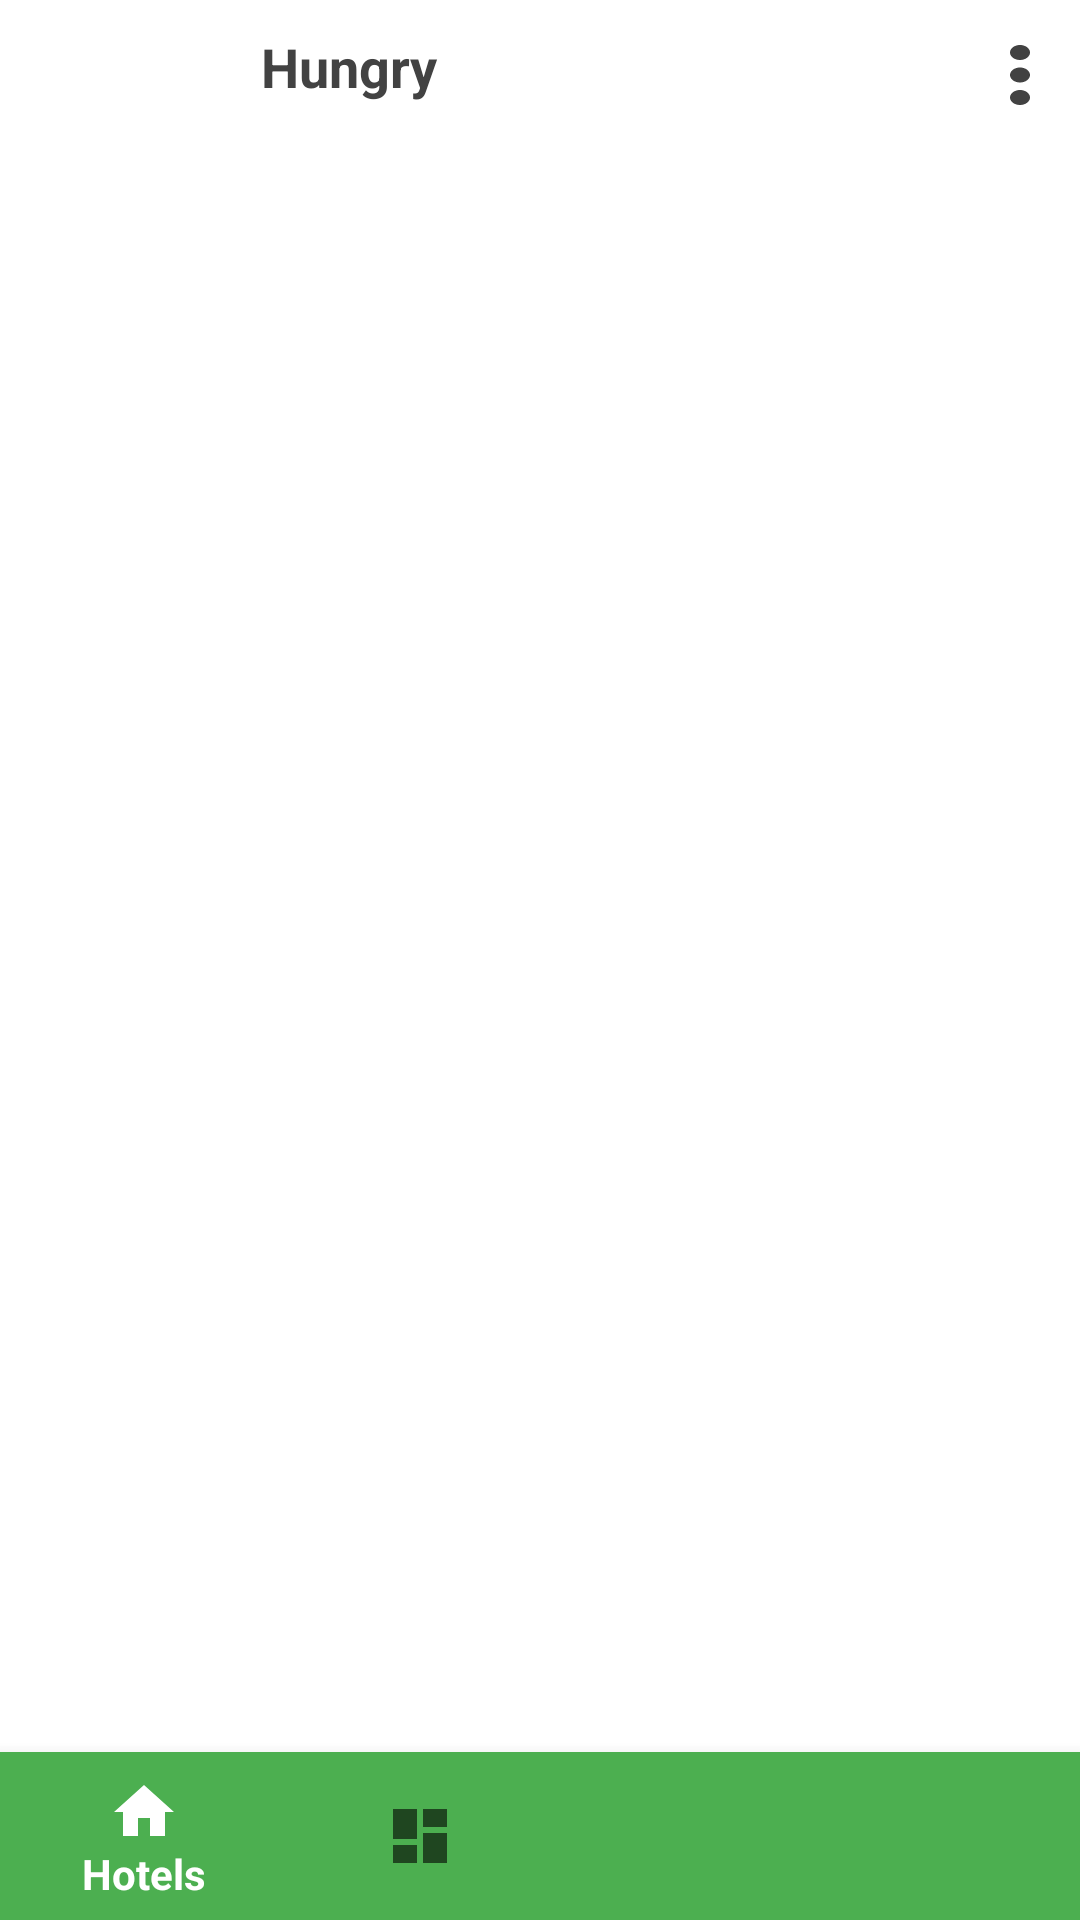

Point at icon controls on the screen. Image size 1080 x 1920, points as [x,y].
more vert: [1020,75]
